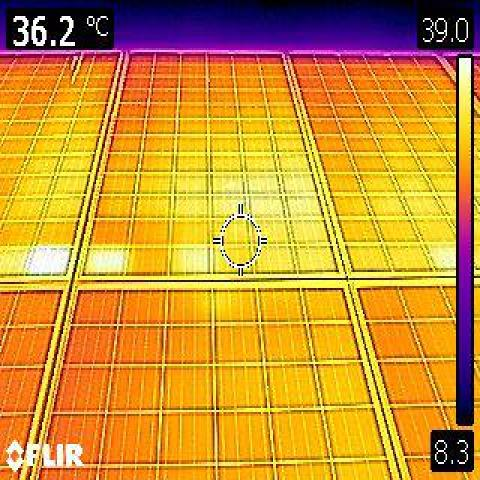fault: (427, 239, 466, 271), (34, 248, 70, 275), (86, 249, 124, 272)
